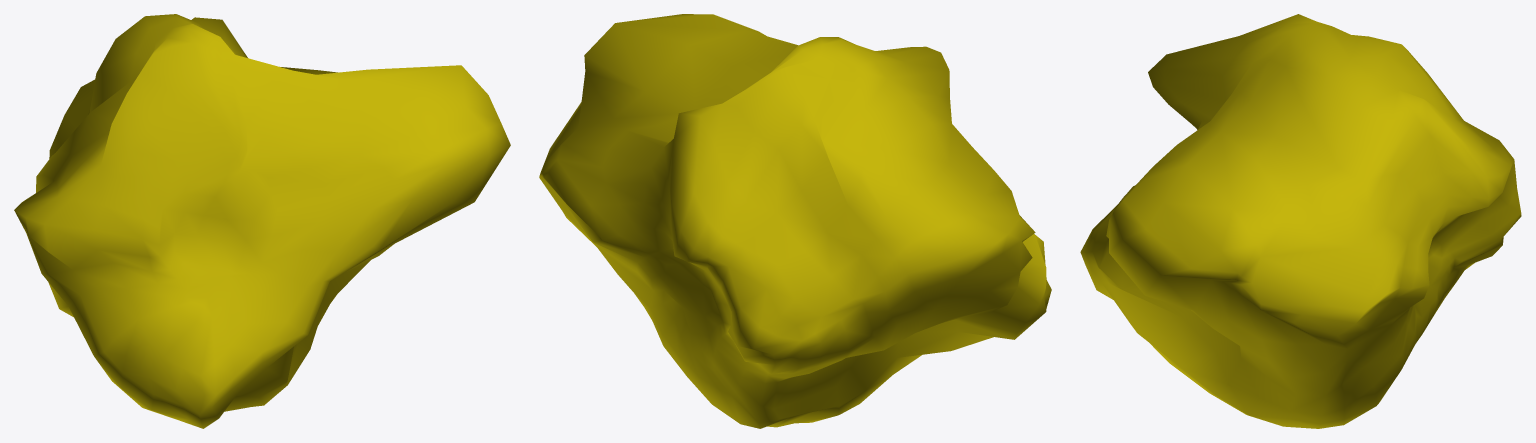
Rendered from GoldNugget_01.fbx.
3 renders of one model, left to right at view 1: azimuth 30°, elevation 25°; view 2: azimuth 150°, elevation 25°; view 3: azimuth 270°, elevation 25°, orthographic. The views are drawn at different scales.
Visible parts, largest first — view 1: Group1171; view 2: Group1171; view 3: Group1171.
Boxes of the visible parts, x1,y1,x2,y2 form: Group1171: [14, 14, 510, 428]; Group1171: [539, 14, 1051, 428]; Group1171: [1080, 14, 1521, 428].
Size of the model in its own units: 49.61 by 41.17 by 42.77.
